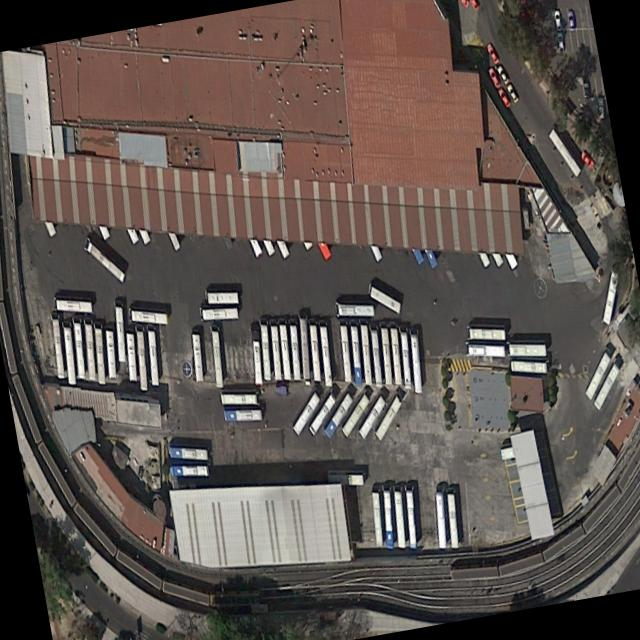large-vehicle: (298, 198, 331, 262), (82, 237, 125, 284), (546, 126, 582, 180), (258, 198, 289, 260), (352, 201, 382, 263), (245, 197, 274, 257), (284, 191, 312, 252), (583, 346, 613, 402), (233, 203, 262, 259), (395, 208, 423, 266), (339, 389, 371, 439), (591, 358, 621, 411), (322, 390, 353, 439), (356, 393, 387, 441), (410, 213, 436, 270), (373, 391, 402, 442), (461, 217, 489, 269), (290, 390, 320, 437), (490, 219, 517, 270), (306, 392, 336, 437), (84, 191, 110, 241), (125, 197, 150, 246), (31, 189, 56, 237), (599, 269, 619, 328), (115, 197, 139, 246), (478, 222, 503, 268), (49, 315, 65, 380), (157, 205, 179, 252), (317, 325, 333, 389), (369, 285, 401, 315), (61, 323, 76, 385), (134, 325, 148, 391), (403, 485, 417, 551), (408, 330, 422, 394), (296, 315, 310, 379), (391, 487, 405, 551), (276, 322, 291, 381), (92, 323, 106, 386), (52, 294, 92, 316), (82, 319, 96, 381), (71, 318, 85, 380), (257, 320, 271, 382), (209, 327, 223, 388), (398, 325, 411, 390), (145, 326, 159, 386), (445, 489, 459, 549), (368, 329, 382, 389), (369, 489, 383, 548), (388, 328, 402, 386), (338, 325, 352, 383), (307, 324, 321, 382), (268, 323, 282, 381), (112, 302, 125, 364), (358, 324, 371, 386), (348, 325, 361, 386), (434, 488, 447, 549), (381, 486, 393, 551), (127, 307, 168, 326), (379, 328, 392, 385), (287, 324, 300, 381), (167, 445, 208, 463), (466, 342, 505, 360), (218, 390, 259, 407), (189, 333, 203, 382), (198, 306, 238, 323), (509, 359, 549, 376), (104, 329, 117, 381), (507, 341, 546, 358), (467, 327, 506, 343), (325, 472, 365, 487), (124, 333, 136, 382), (336, 303, 375, 318), (250, 341, 262, 387), (205, 290, 238, 306), (222, 409, 262, 422), (169, 465, 209, 478)
small-vehicle: (484, 41, 499, 66), (579, 149, 595, 171), (495, 64, 509, 87), (496, 87, 510, 110), (504, 82, 518, 105), (486, 65, 499, 88), (580, 77, 590, 99), (555, 32, 564, 54), (553, 10, 562, 31), (566, 11, 575, 29), (468, 0, 478, 11), (457, 0, 468, 8)
